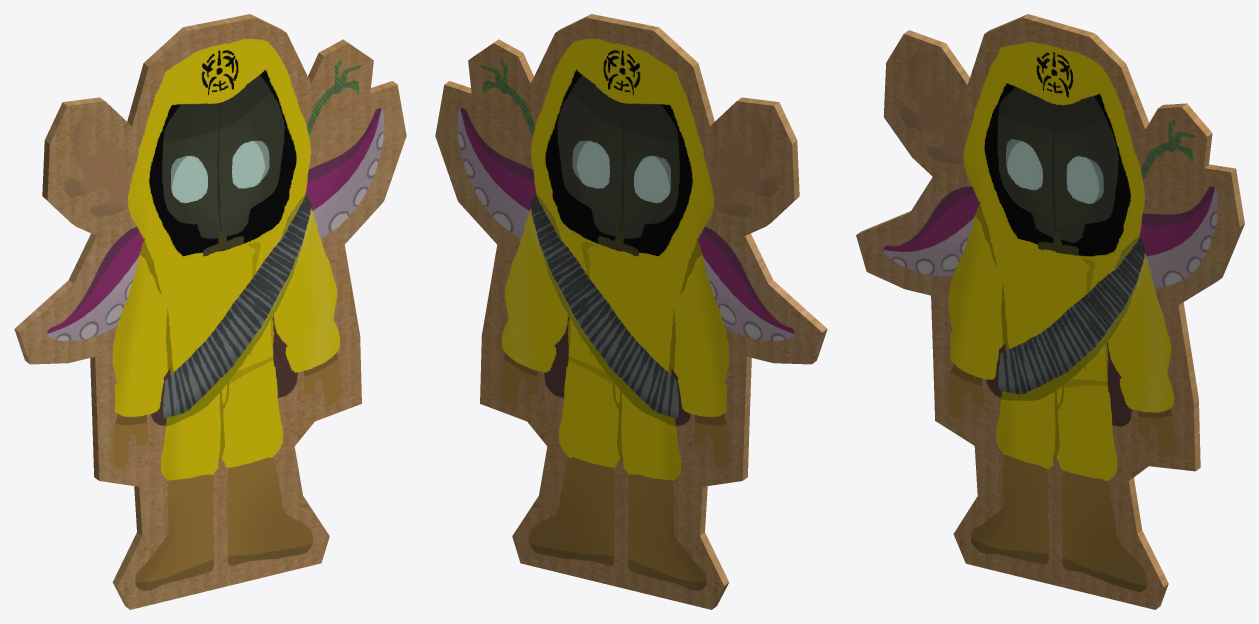
File: NPC_Base_1_MonsterControl.glb
The picture shows the model from 3 angles, left to right: view 1: azimuth 30°, elevation 25°; view 2: azimuth 150°, elevation 25°; view 3: azimuth 330°, elevation 25°; orthographic projection.
Parts seen in each view (by area): view 1: NPC_Base1_MonsterControl 1; view 2: NPC_Base1_MonsterControl 1; view 3: NPC_Base1_MonsterControl 1.
Part boxes in pixels (x1,y1,x2,y2): NPC_Base1_MonsterControl 1: (14, 14, 406, 609); NPC_Base1_MonsterControl 1: (435, 14, 827, 609); NPC_Base1_MonsterControl 1: (856, 14, 1244, 609).
Size of the model in its own units: 1.3 by 1.81 by 0.03.
1 material, 1 textured.
